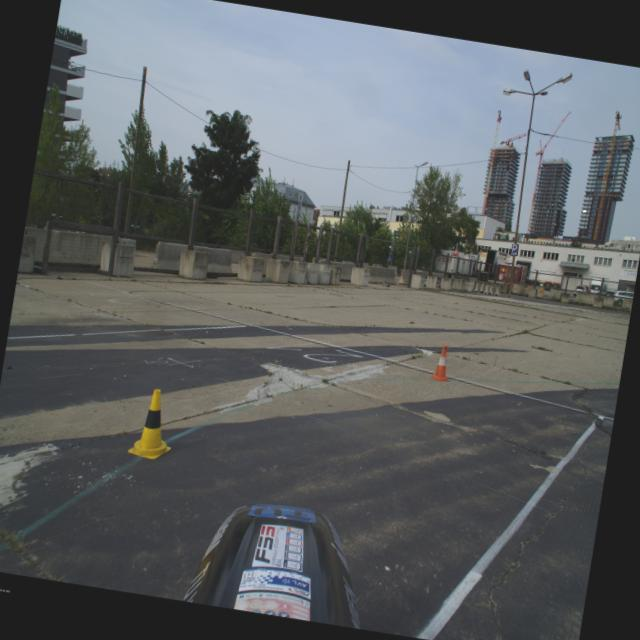orange_cone: (428, 343, 456, 383)
yellow_cone: (126, 386, 180, 463)
